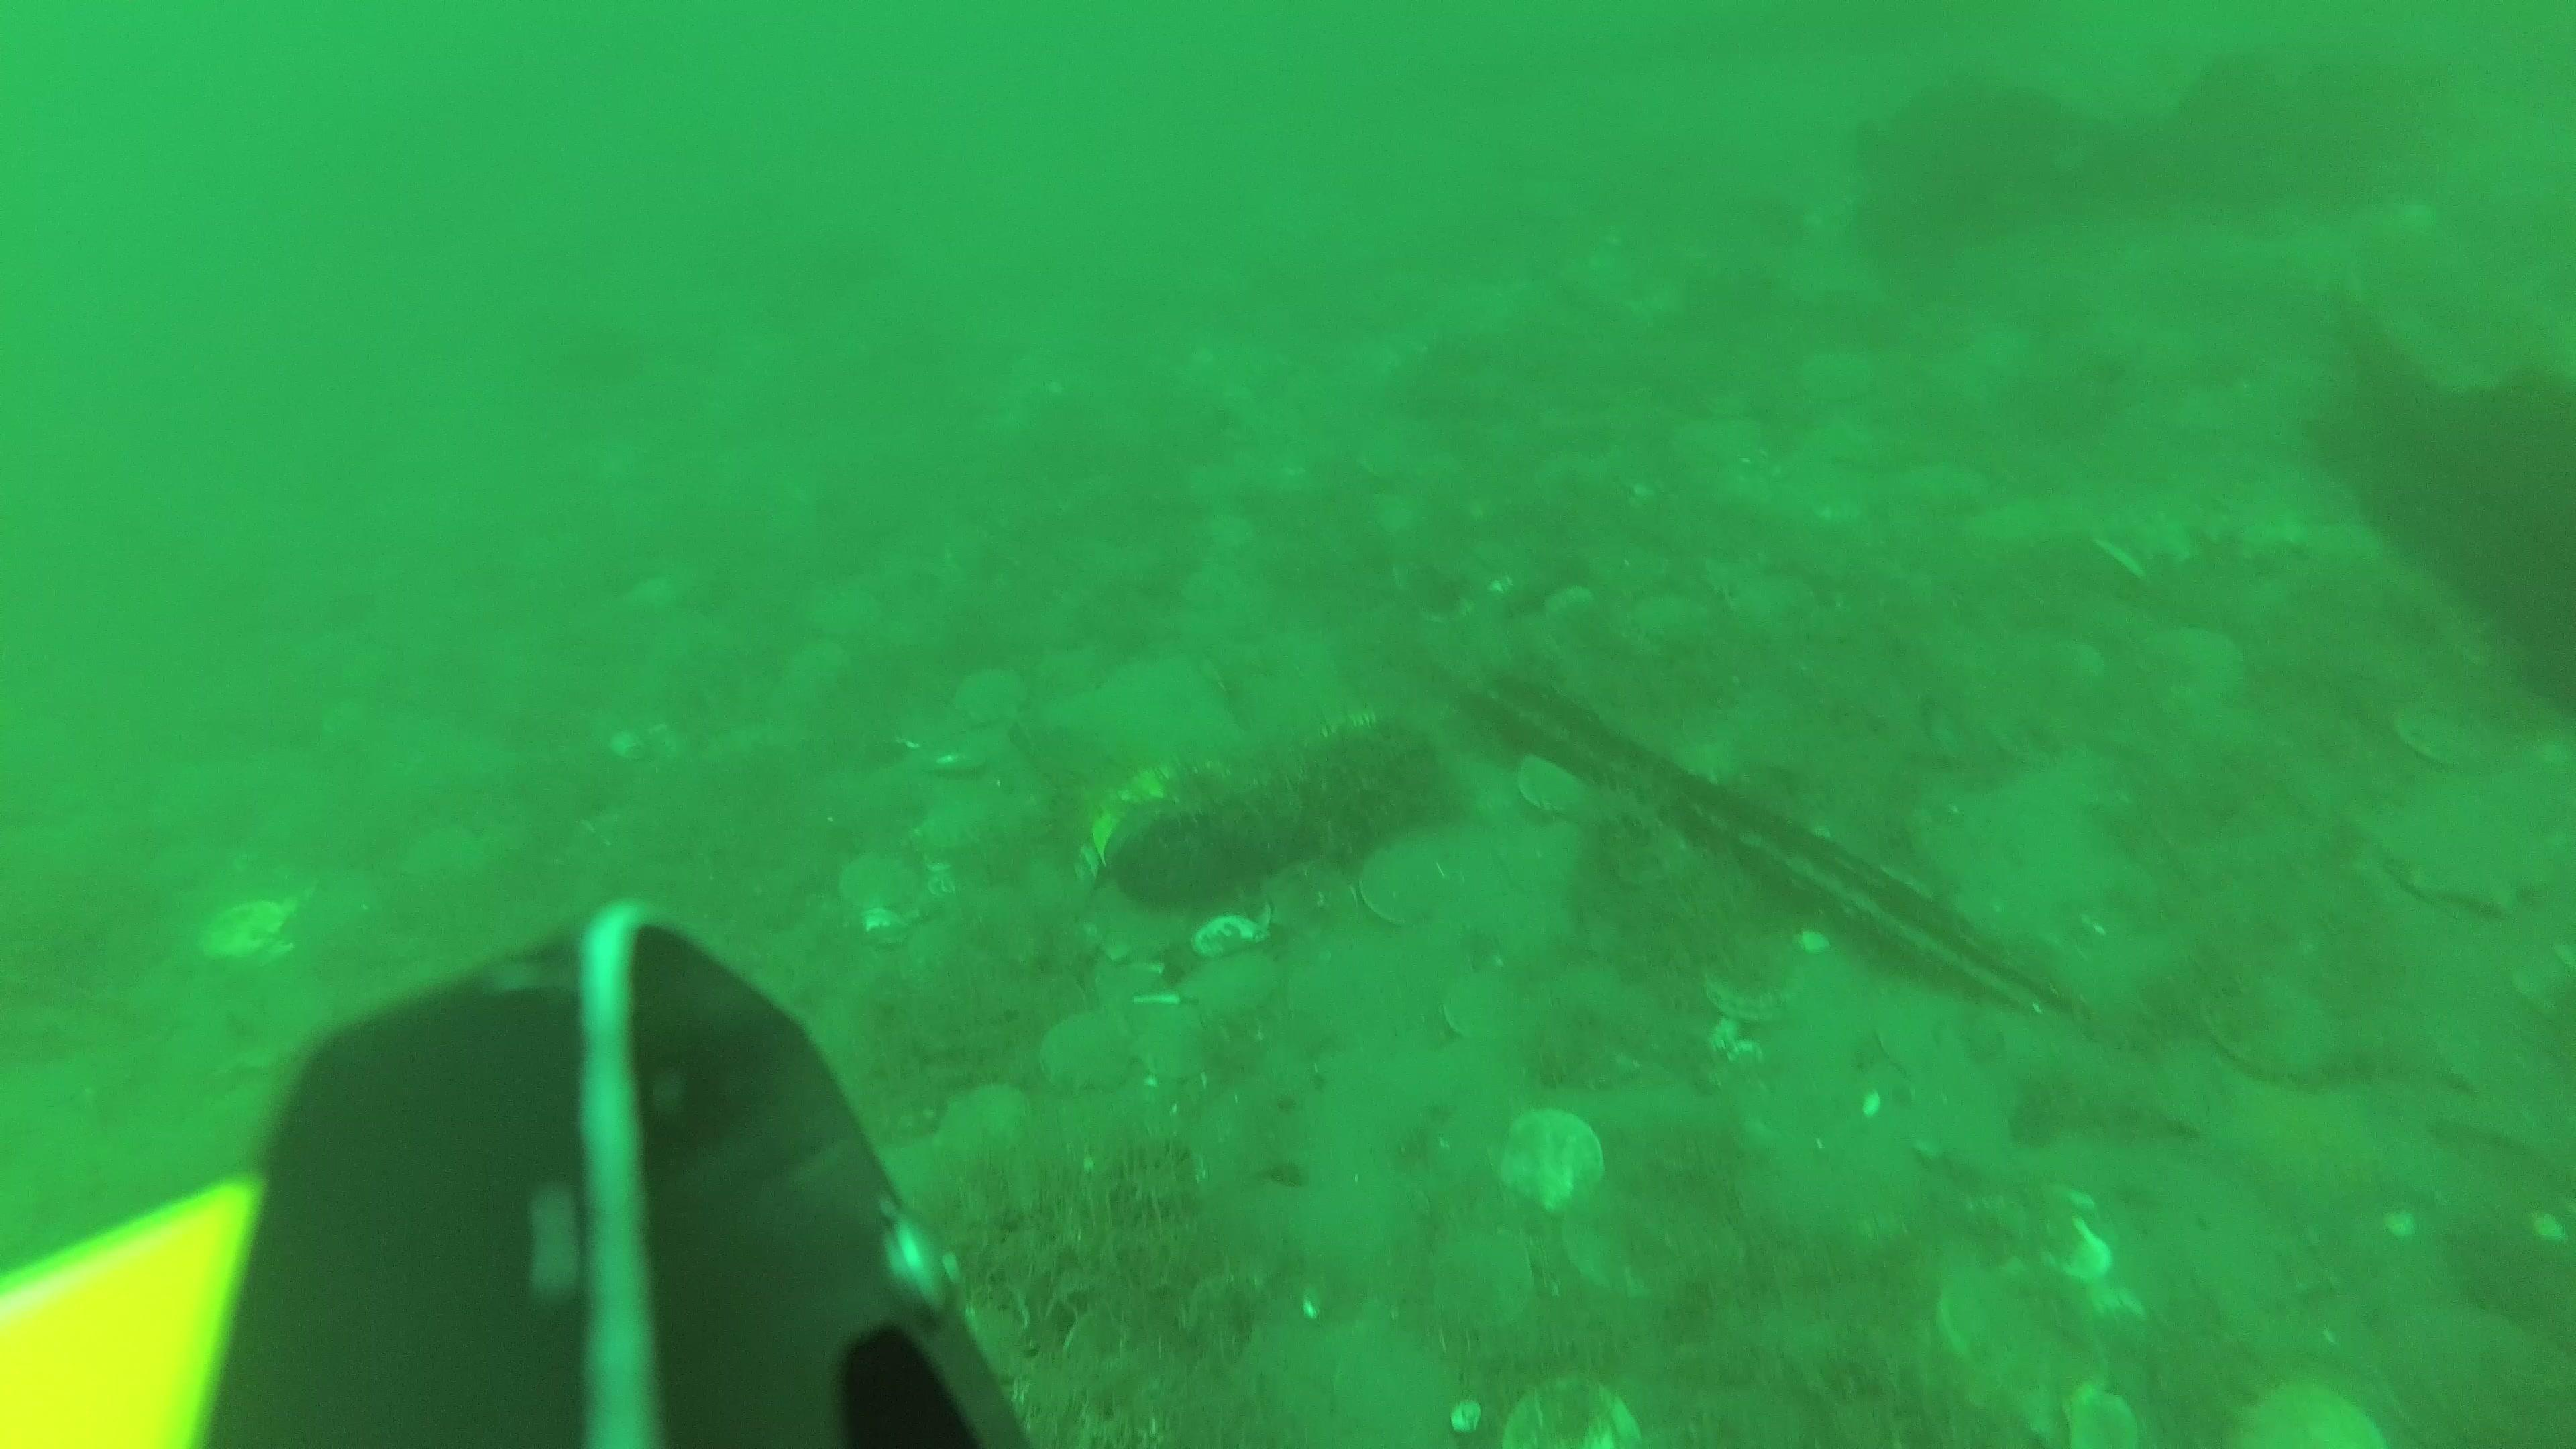scallop: (1934, 1251, 2118, 1410), (2383, 768, 2560, 916), (1493, 1111, 1608, 1226), (1500, 1380, 1645, 1449), (2148, 612, 2242, 711), (1123, 987, 1215, 1085), (1368, 837, 1460, 931), (1042, 1010, 1136, 1099), (200, 895, 299, 977), (941, 1083, 1031, 1171), (1445, 973, 1543, 1051), (1704, 962, 1806, 1024), (1194, 952, 1284, 1021), (839, 853, 916, 916), (1518, 755, 1585, 828), (955, 665, 1024, 732)
